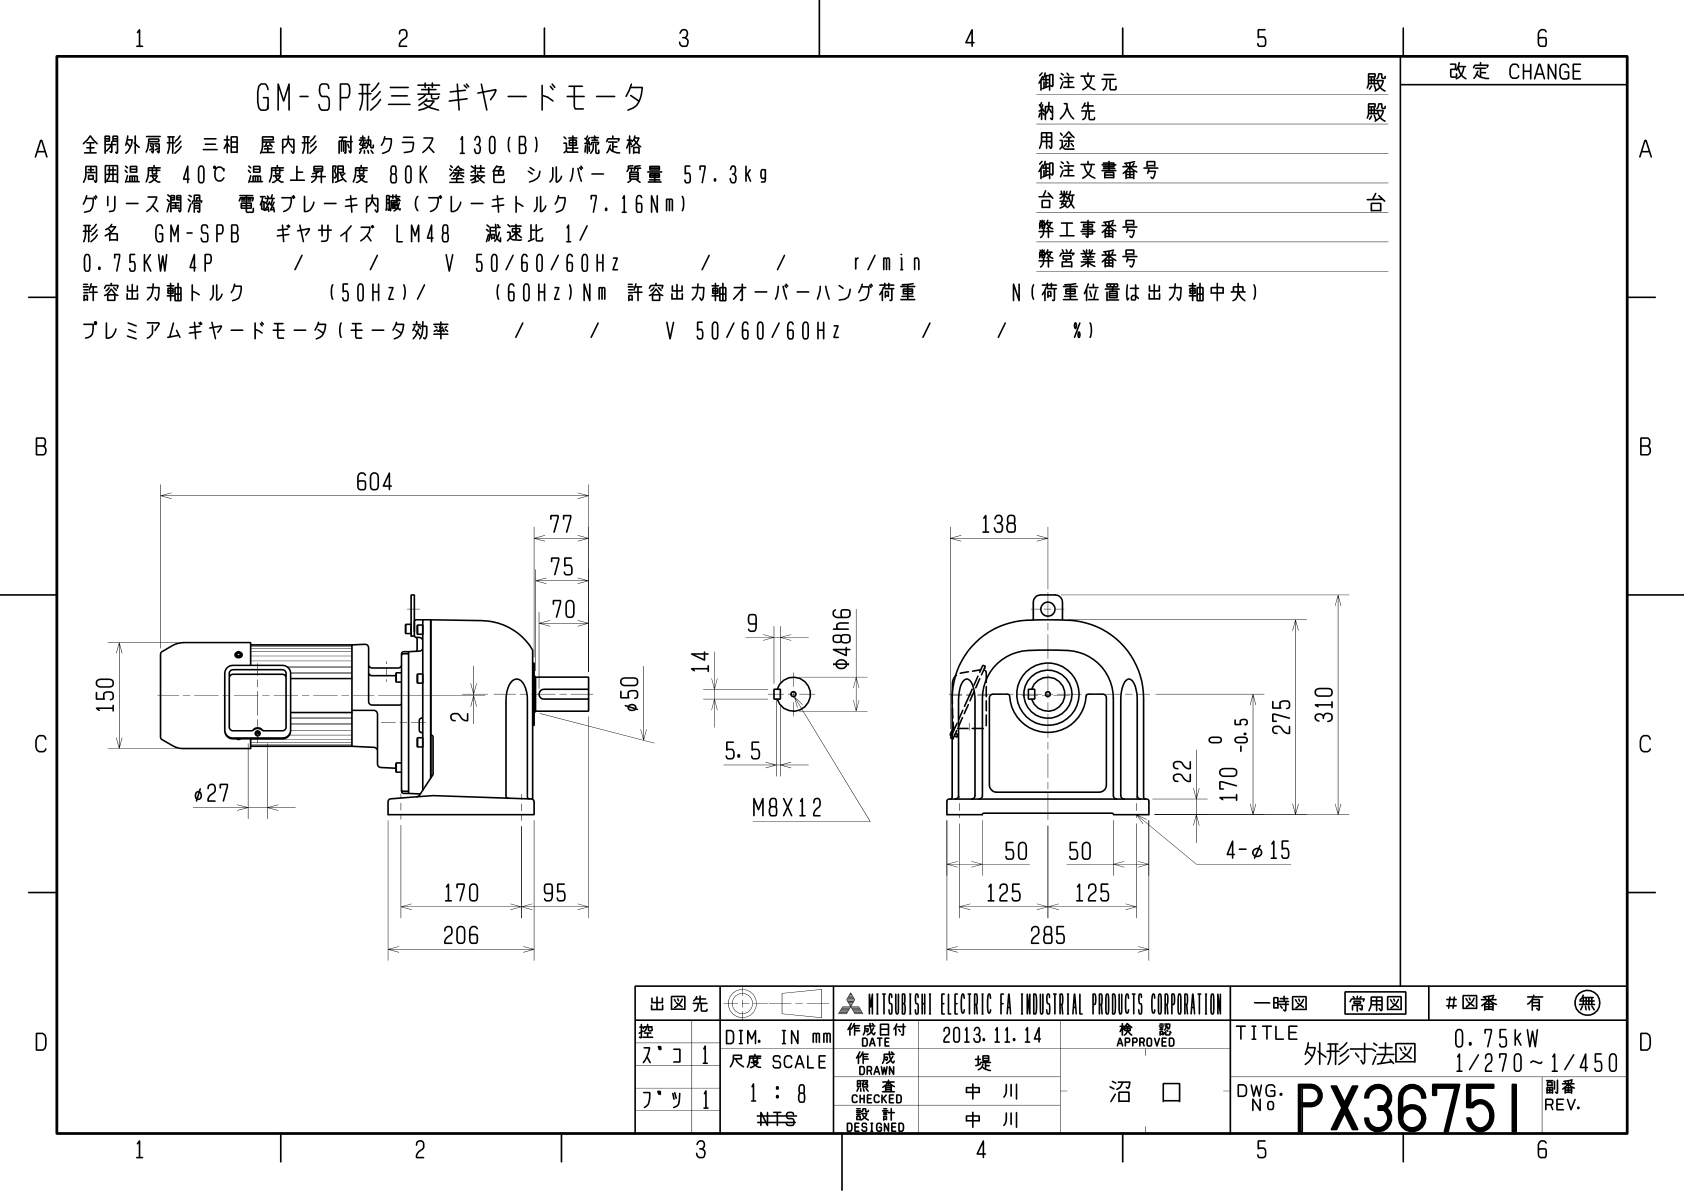GM_SP_屋内_三相_脚: (71, 431, 1373, 971)
